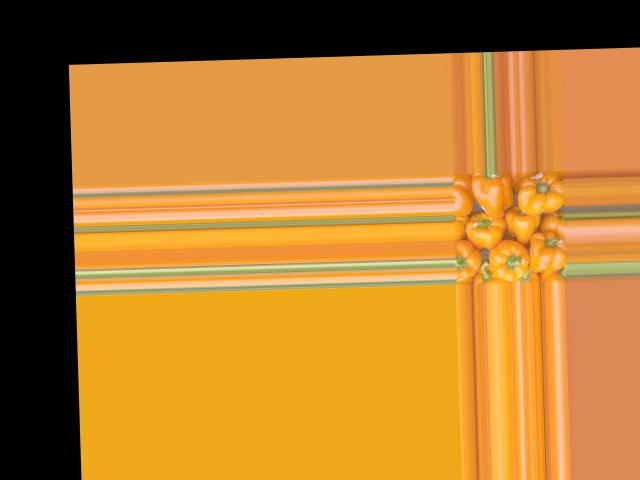bell_pepper: (453, 172, 472, 217)
